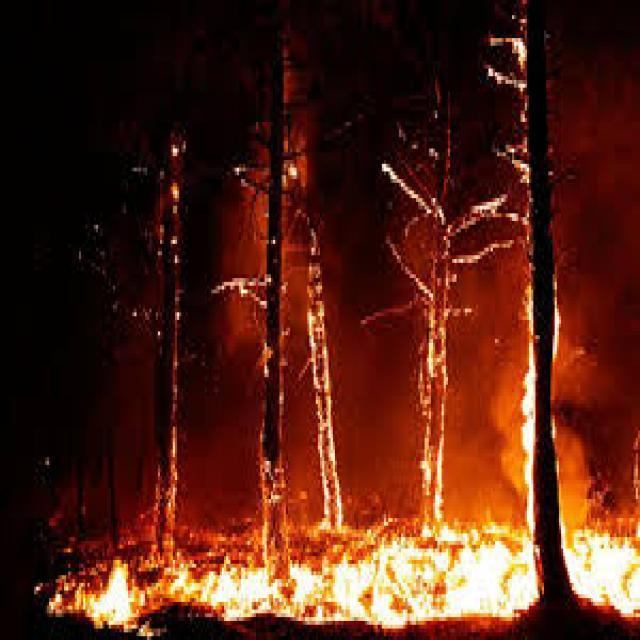Fire: (186, 526, 640, 618), (305, 306, 343, 530), (60, 561, 135, 635), (422, 320, 439, 524), (523, 284, 535, 545), (552, 292, 564, 471)
Smoke: (552, 310, 613, 537), (226, 132, 272, 341), (496, 301, 523, 497)
